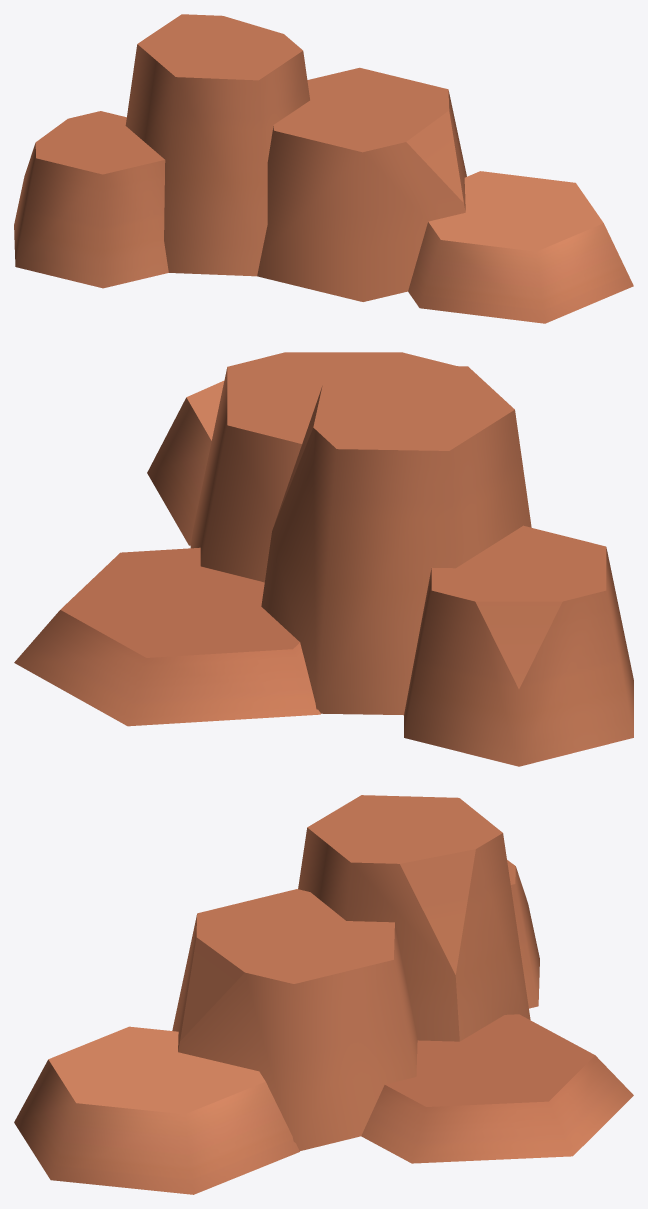
File: kenney-tower-defense-detail-dirt.glb
3 renders of one model, top to bottom at view 1: azimuth 30°, elevation 25°; view 2: azimuth 150°, elevation 25°; view 3: azimuth 270°, elevation 25°, orthographic. The views are drawn at different scales.
Visible parts, largest first — view 1: detail-dirt; view 2: detail-dirt; view 3: detail-dirt.
Boxes of the visible parts, x1,y1,x2,y2 form: detail-dirt: (14, 14, 633, 323); detail-dirt: (14, 352, 633, 766); detail-dirt: (14, 795, 633, 1194).
Size of the model in its own units: 0.7027 by 0.2653 by 0.712.
1 material, 1 textured.
